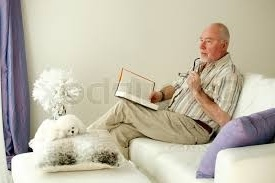not_fallen: (114, 18, 249, 157)
